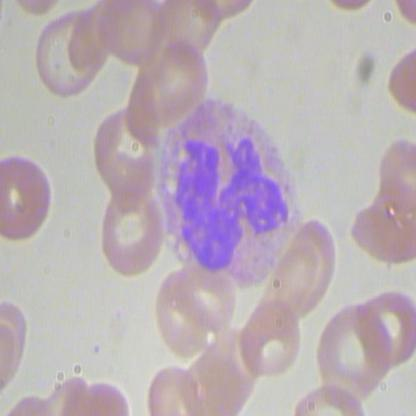RBC: (312, 297, 393, 406), (96, 180, 163, 283), (0, 144, 58, 245)
WBC: (151, 88, 305, 292)
